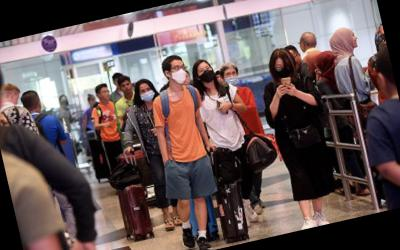with_mask: (168, 62, 190, 87), (273, 60, 294, 81), (196, 64, 216, 86), (138, 84, 158, 104), (223, 69, 241, 88), (58, 96, 68, 107)
without_mask: (120, 80, 134, 95), (350, 29, 360, 49), (99, 87, 111, 102), (181, 71, 191, 86), (215, 74, 226, 86)
